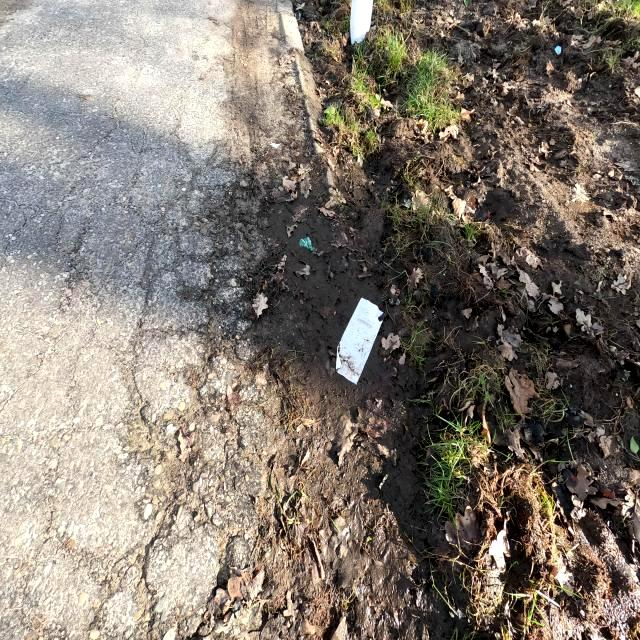Paper: (328, 294, 384, 392)
